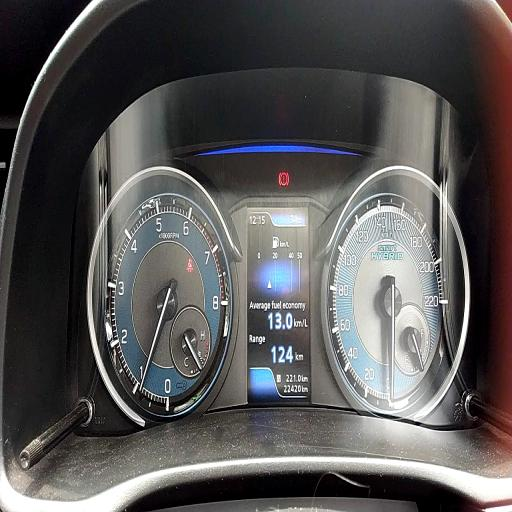belt: (186, 258, 194, 274)
brake_system_fault: (278, 172, 288, 186)
tachometer: (89, 165, 240, 423)
